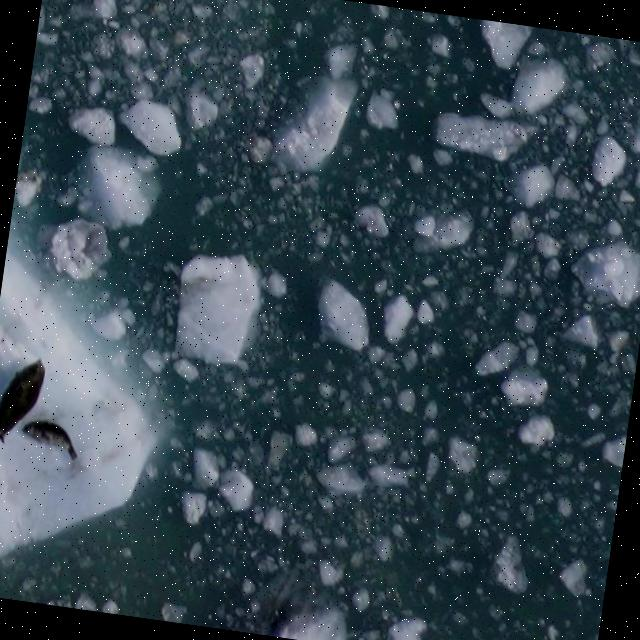seal: (0, 349, 58, 447), (17, 410, 86, 462)
